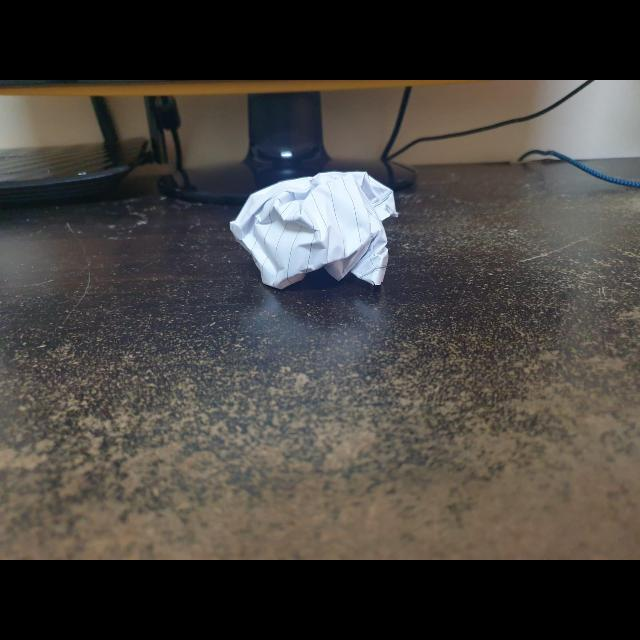scrap_paper: (218, 167, 398, 293)
